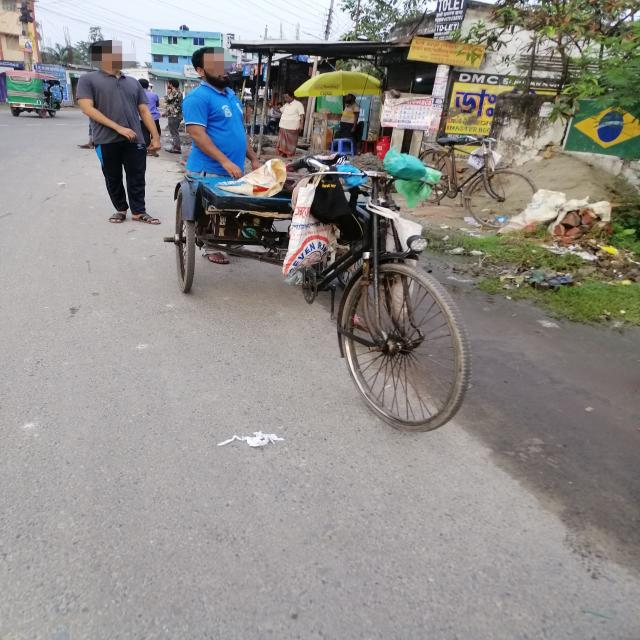Van: (136, 148, 497, 453)
